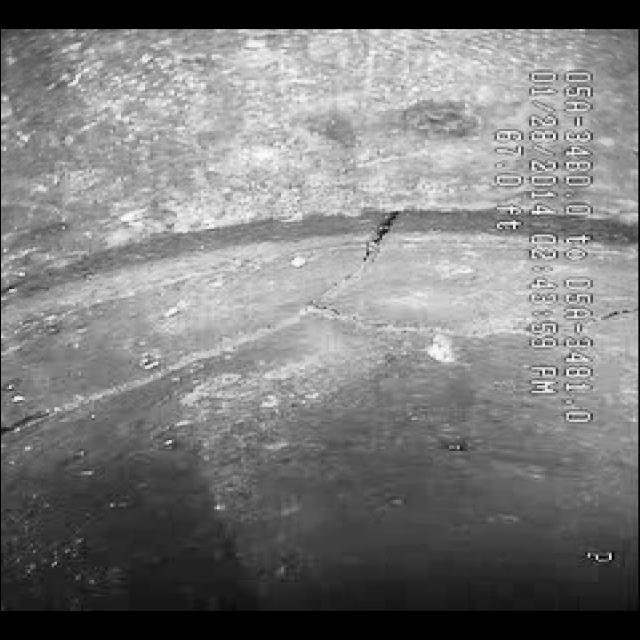Fracture: (48, 238, 458, 420)
